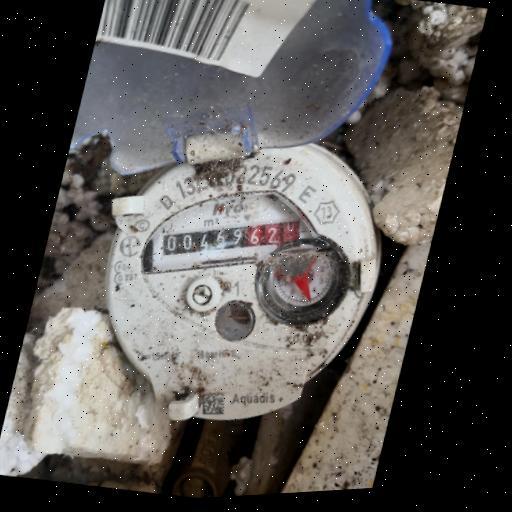0: (278, 217, 305, 246), (158, 230, 184, 258), (174, 228, 199, 256)
2: (259, 218, 285, 249)
4: (190, 227, 214, 254)
6: (206, 224, 234, 253), (241, 221, 268, 250)
9: (223, 223, 250, 252)
border_water_meter_number: (150, 183, 313, 285)
